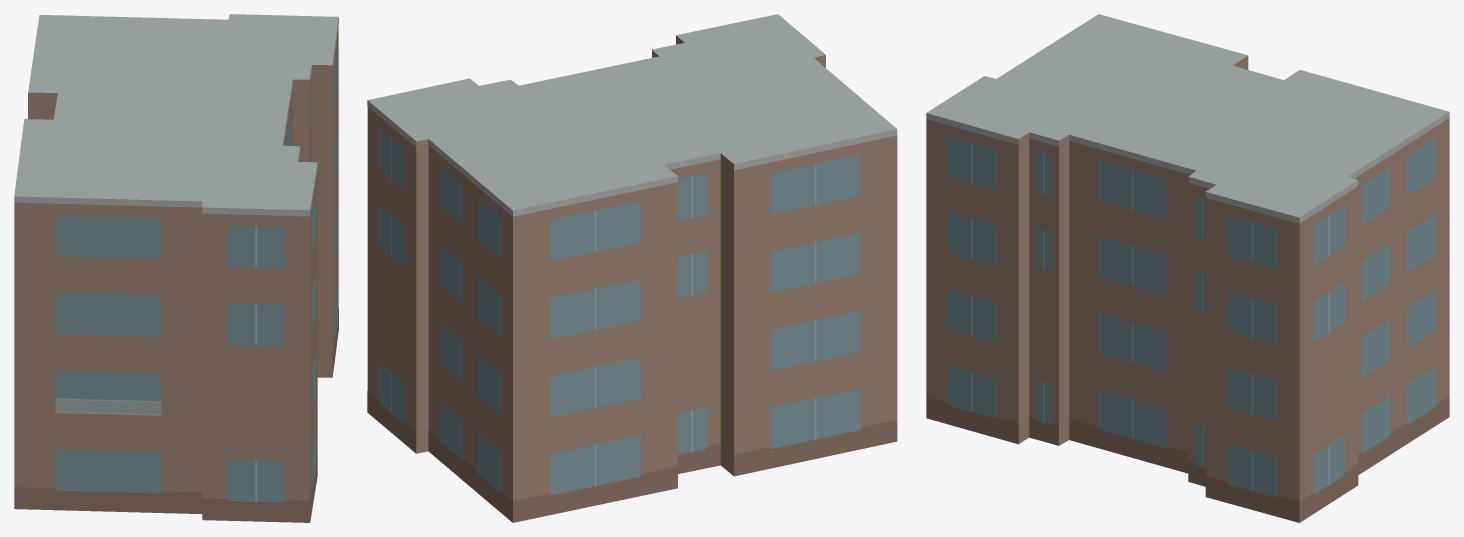
The model's file is survey-upis-32898086.glb.
3 renders of one model, left to right at view 1: azimuth 30°, elevation 25°; view 2: azimuth 150°, elevation 25°; view 3: azimuth 270°, elevation 25°, orthographic. The views are drawn at different scales.
Parts seen in each view (by area): view 1: survey-upis-32898086.tmp; view 2: survey-upis-32898086.tmp; view 3: survey-upis-32898086.tmp.
Part boxes in pixels (<box>): survey-upis-32898086.tmp: <box>14,14,338,522</box>; survey-upis-32898086.tmp: <box>367,14,897,522</box>; survey-upis-32898086.tmp: <box>926,14,1449,522</box>.
Bounding box in the file's own units: 17.54 × 12.25 × 19.04.
